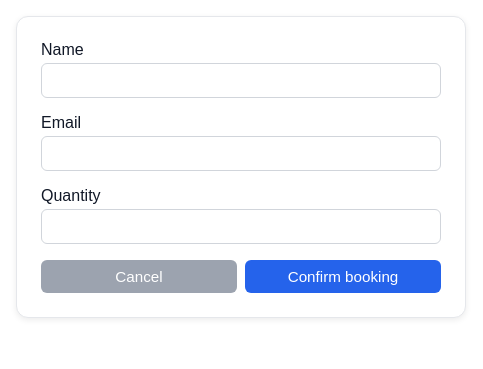
Scenario: BookingForm component › shows error if quantity is less than 1
The width and height of the screenshot is (483, 369).
Type "John" into the field labelled "Name" at (241, 80), box [41,63,441,98]
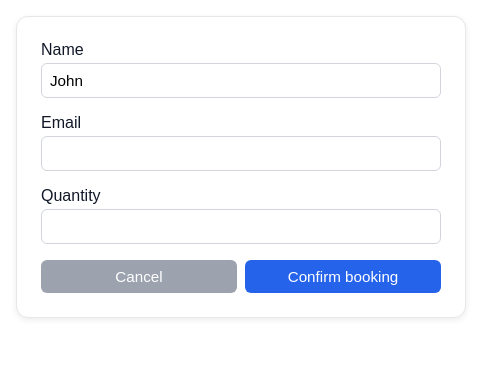
Type "john@example.com" into the field labelled "Email" at (241, 154), box [41,136,441,171]
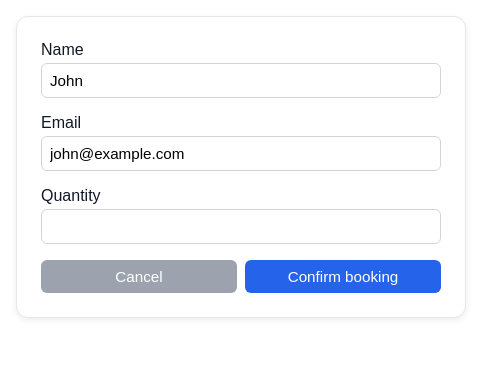
Type "0" into the number field labelled "Quantity" at (241, 226), box [41,209,441,244]
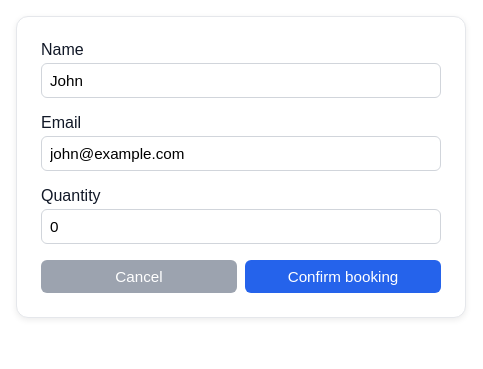
Click the button "Confirm booking" at (343, 276), box [245,260,441,293]
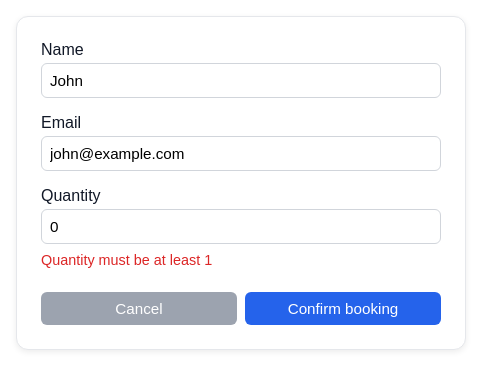
Now the text "Quantity must be at least 1" is shown, box [41,252,212,268]
